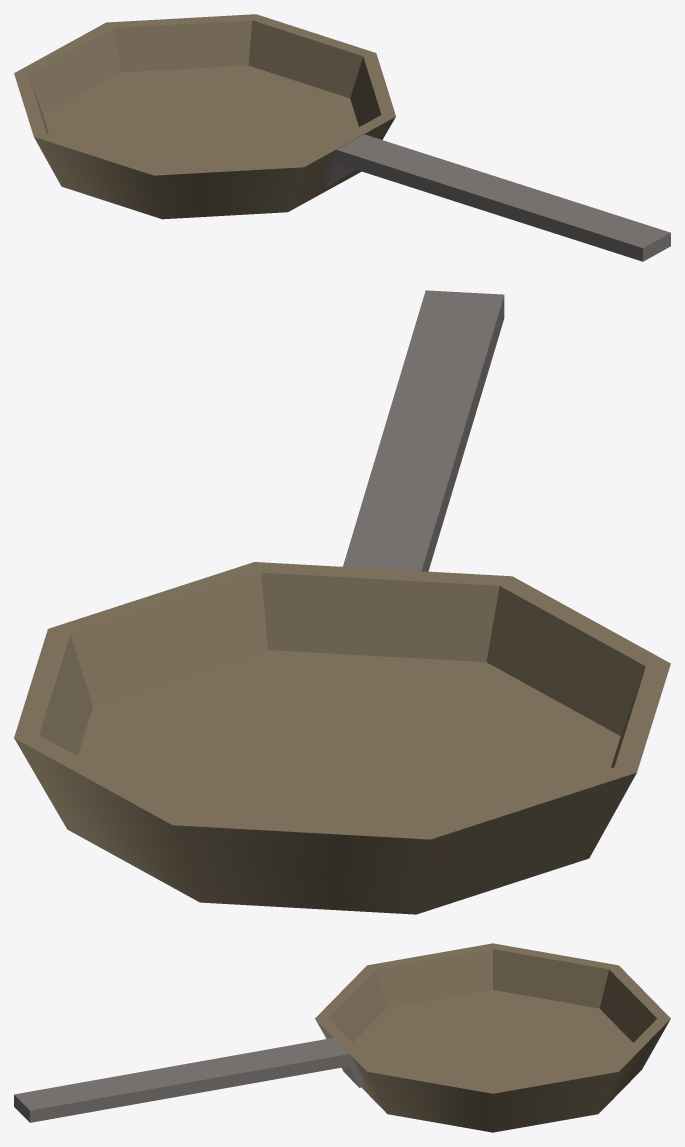
The model's file is SM_Pan_03.fbx.
3 views of the same model, one above another, from view 1: azimuth 30°, elevation 25°; view 2: azimuth 150°, elevation 25°; view 3: azimuth 270°, elevation 25° (orthographic). The views are drawn at different scales.
Visible parts, largest first — view 1: SM_Pan_03; view 2: SM_Pan_03; view 3: SM_Pan_03.
Boxes of the visible parts, x1,y1,x2,y2 form: SM_Pan_03: (14, 14, 670, 261); SM_Pan_03: (14, 290, 670, 914); SM_Pan_03: (14, 943, 670, 1132).
Bounding box in the file's own units: 27.42 × 3.91 × 45.61.
1 material, 1 textured.
